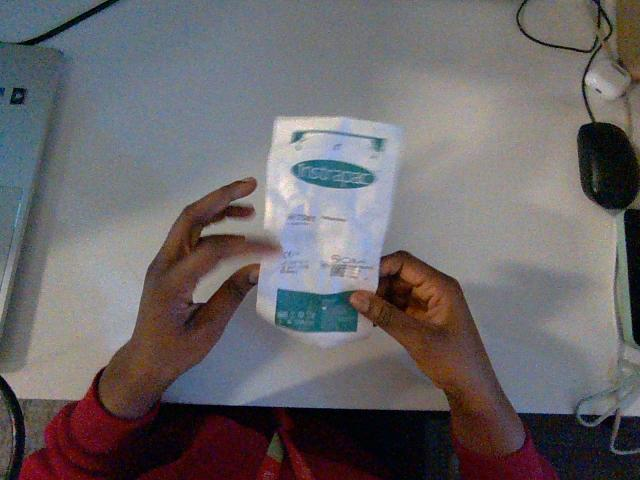gallipot: (257, 117, 401, 347)
